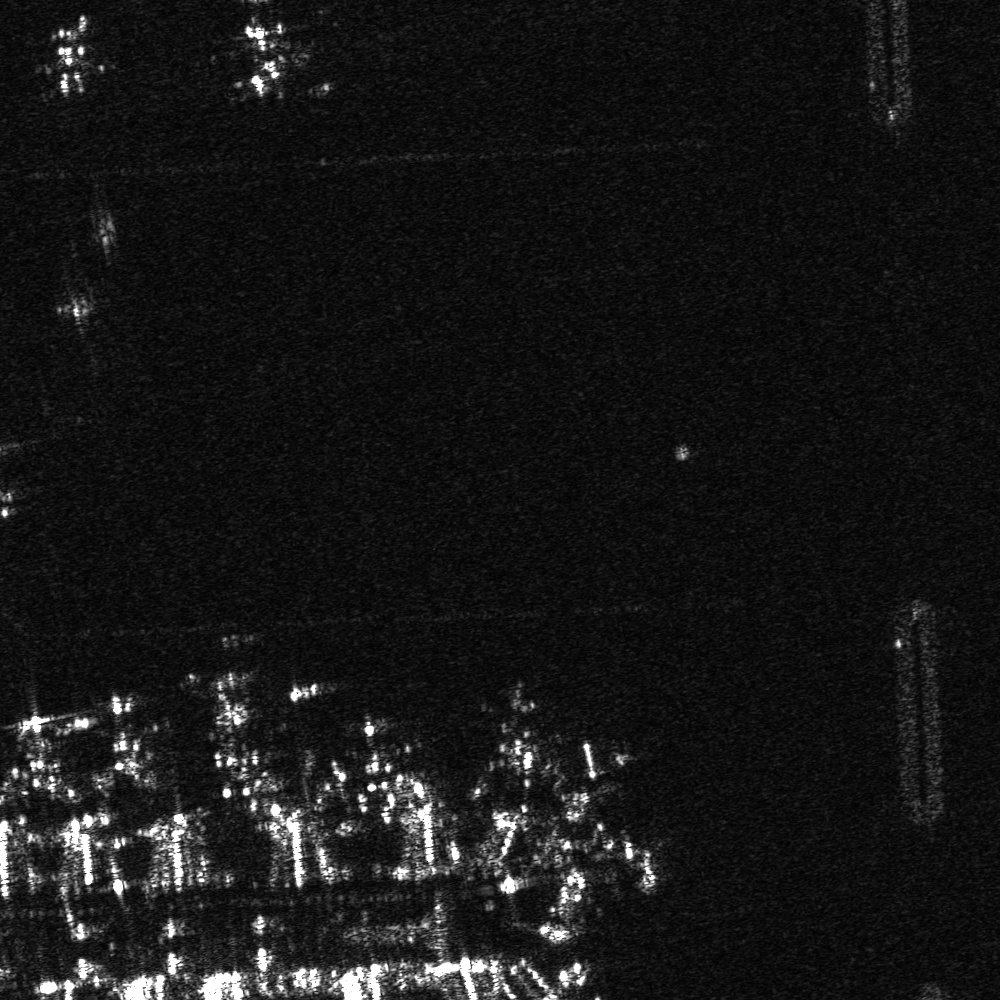A220: (1, 705, 70, 806)
A320/321: (193, 662, 286, 807), (329, 708, 442, 797), (470, 687, 560, 786)
Boeing737: (25, 7, 124, 105)
other: (74, 682, 189, 803), (211, 4, 328, 109)
